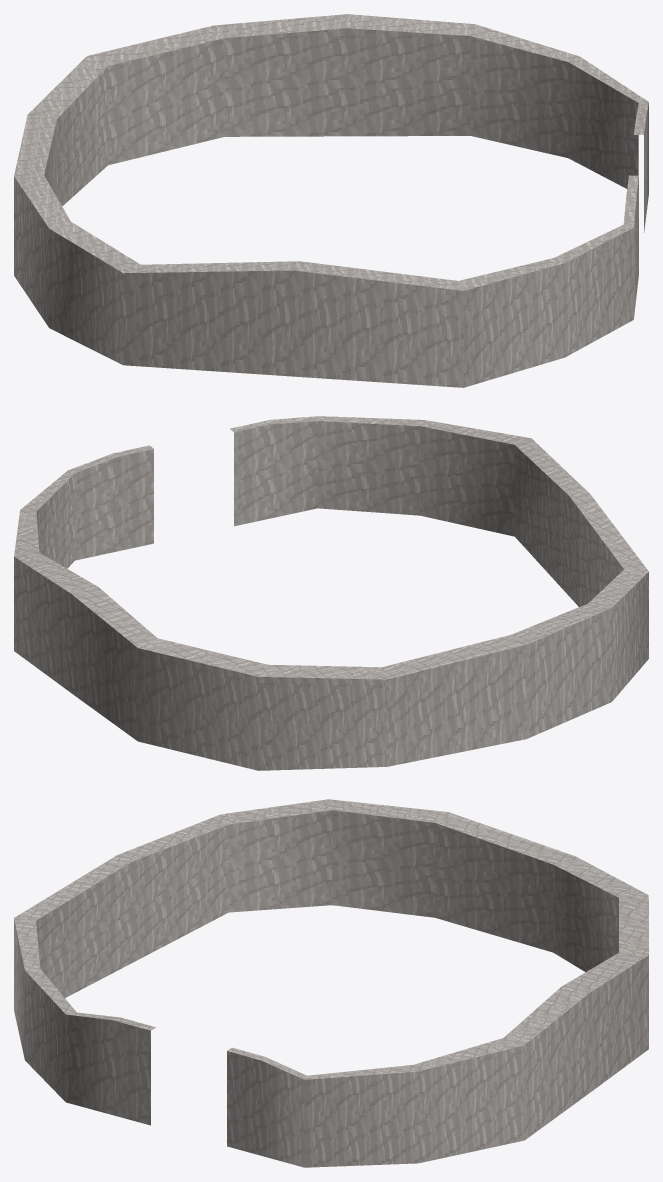
Rendered from kd_stage_1366d7_0_25_bounded.glb.
The picture shows the model from 3 angles, top to bottom: view 1: azimuth 30°, elevation 25°; view 2: azimuth 150°, elevation 25°; view 3: azimuth 270°, elevation 25°; orthographic projection. The views are drawn at different scales.
Visible parts, largest first — view 1: kd_stage_1366d7_0_25_bounded; view 2: kd_stage_1366d7_0_25_bounded; view 3: kd_stage_1366d7_0_25_bounded.
Boxes of the visible parts, bbox=[...] form: kd_stage_1366d7_0_25_bounded: bbox=[14, 14, 648, 387]; kd_stage_1366d7_0_25_bounded: bbox=[14, 416, 648, 770]; kd_stage_1366d7_0_25_bounded: bbox=[14, 799, 648, 1167].
Size of the model in its own units: 47.67 by 8.39 by 46.77.
Materials: 1 (1 with a texture image).
